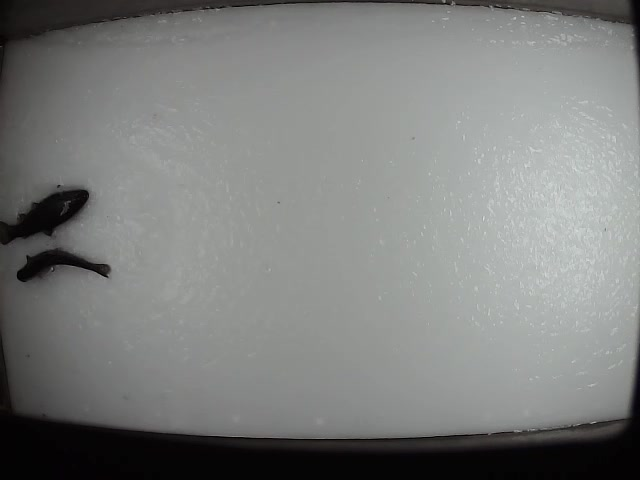Fish: (1, 190, 89, 245), (16, 248, 110, 282)
